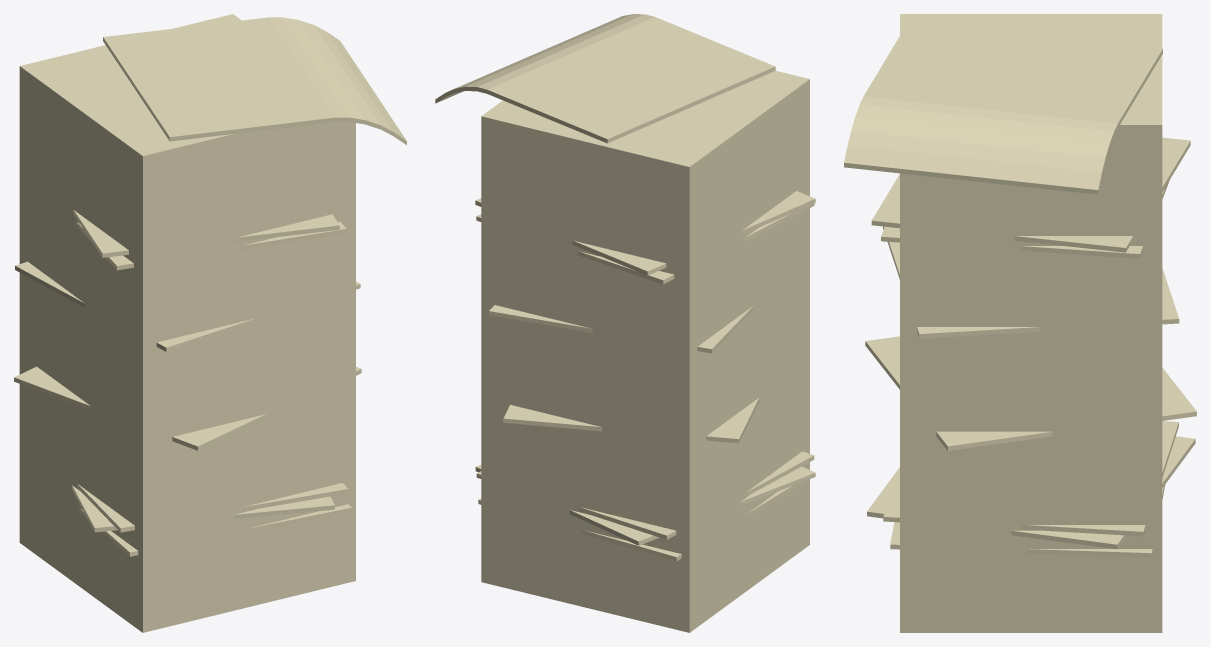
Rendered from alexc_messy_paper_stack.fbx.
3 views of the same model, side by side, from view 1: azimuth 30°, elevation 25°; view 2: azimuth 150°, elevation 25°; view 3: azimuth 270°, elevation 25° (orthographic). The views are drawn at different scales.
Visible parts, largest first — view 1: Cube; view 2: Cube; view 3: Cube.
Boxes of the visible parts, x1,y1,x2,y2 form: Cube: [14, 14, 406, 632]; Cube: [435, 14, 815, 632]; Cube: [844, 14, 1196, 632].
Size of the model in its own units: 114 by 103 by 166.
